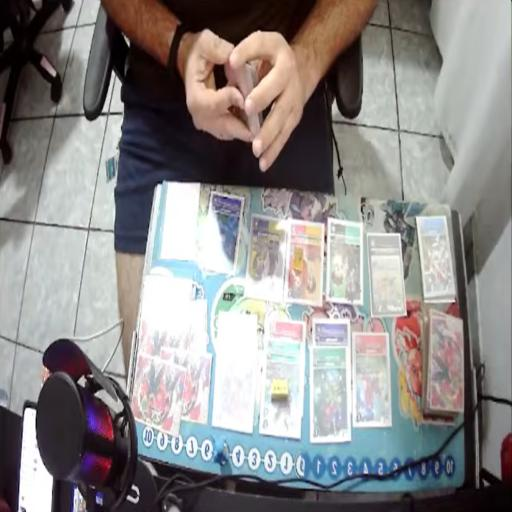card: (212, 331, 259, 433), (260, 340, 304, 438), (310, 346, 351, 444), (283, 219, 326, 308), (352, 330, 390, 430), (246, 218, 288, 302), (324, 224, 364, 305), (416, 211, 452, 301), (205, 193, 243, 277), (367, 233, 403, 319), (163, 176, 200, 259), (217, 309, 258, 339), (266, 317, 305, 346), (312, 318, 350, 346)
